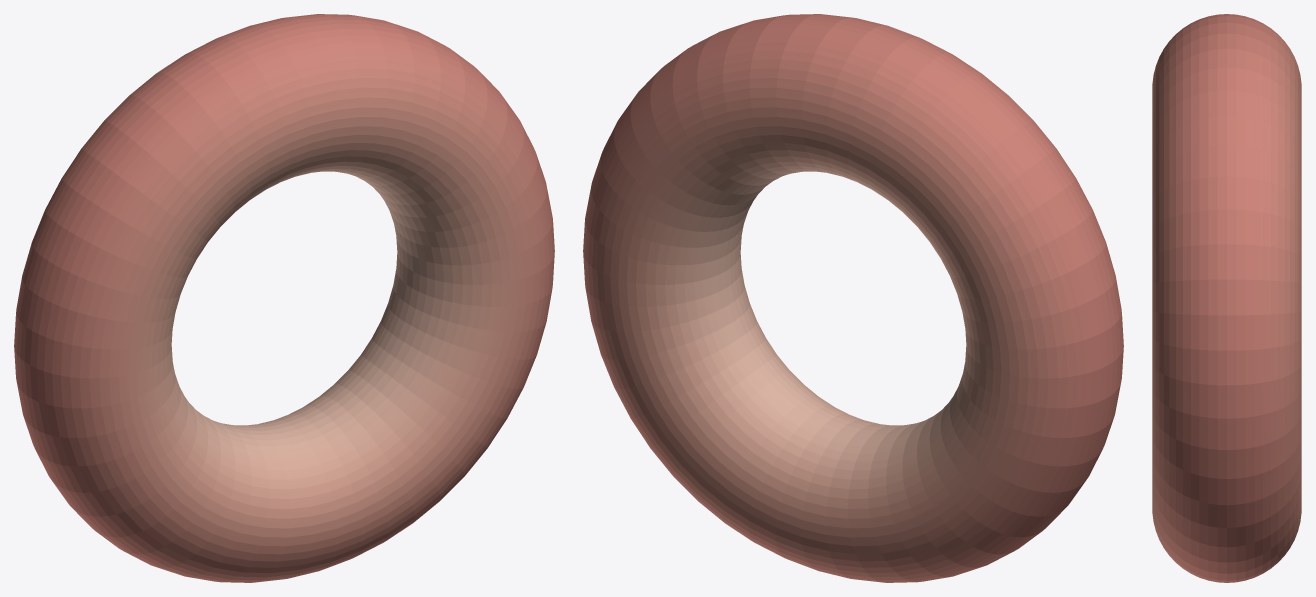
3 views of the same model, side by side, from view 1: azimuth 30°, elevation 25°; view 2: azimuth 150°, elevation 25°; view 3: azimuth 270°, elevation 25° (orthographic). The views are drawn at different scales.
Parts seen in each view (by area): view 1: world; view 2: world; view 3: world.
Boxes of the visible parts, x1,y1,x2,y2 form: world: [14, 14, 554, 582]; world: [583, 14, 1123, 582]; world: [1152, 14, 1301, 582].
Bounding box in the file's own units: 28.93 × 28.88 × 7.59.
